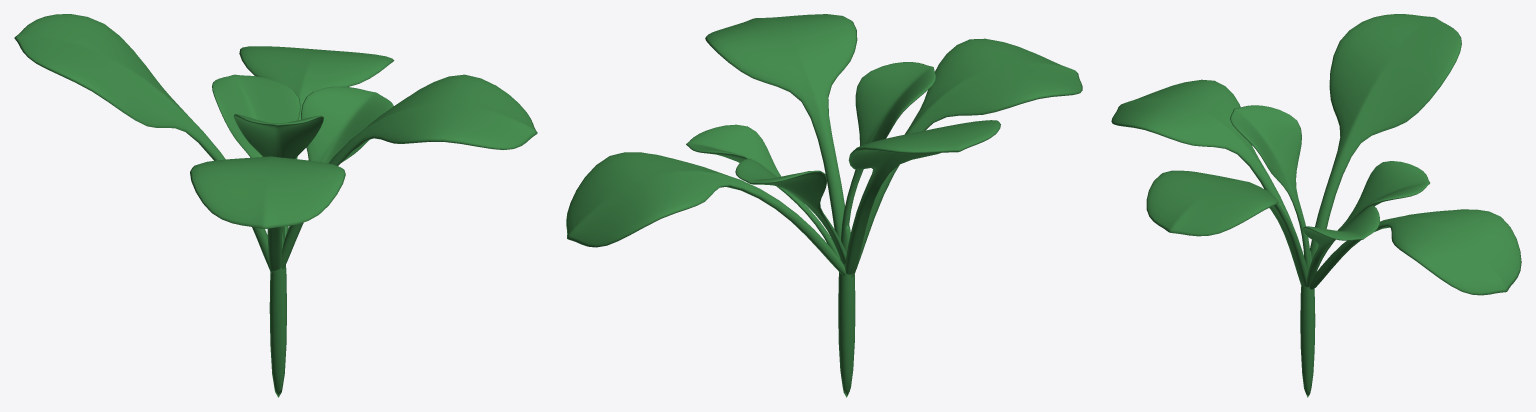
The model's file is Circularplant.fbx.
3 views of the same model, side by side, from view 1: azimuth 30°, elevation 25°; view 2: azimuth 150°, elevation 25°; view 3: azimuth 270°, elevation 25° (orthographic). The views are drawn at different scales.
Visible parts, largest first — view 1: circularplants1, circularplants2, circularplants, circularplants5, circularplants6, circularplants4, circularplants3, stem; view 2: circularplants5, circularplants2, circularplants, circularplants1, circularplants3, circularplants6, circularplants4, stem; view 3: circularplants1, circularplants5, circularplants2, circularplants, circularplants3, circularplants4, circularplants6, stem.
Boxes of the visible parts, left/top/right/bottom form: circularplants1: left=14, top=14, right=274, bottom=274; circularplants2: left=281, top=74, right=537, bottom=268; circularplants: left=190, top=156, right=345, bottom=273; circularplants5: left=239, top=46, right=394, bottom=237; circularplants6: left=285, top=86, right=393, bottom=238; circularplants4: left=212, top=74, right=300, bottom=157; circularplants3: left=233, top=114, right=323, bottom=240; stem: left=269, top=232, right=286, bottom=397; circularplants5: left=566, top=152, right=845, bottom=275; circularplants2: left=705, top=14, right=857, bottom=240; circularplants: left=851, top=38, right=1082, bottom=277; circularplants1: left=845, top=120, right=1000, bottom=274; circularplants3: left=841, top=62, right=935, bottom=241; circularplants6: left=686, top=124, right=840, bottom=258; circularplants4: left=735, top=158, right=846, bottom=264; stem: left=838, top=225, right=855, bottom=397; circularplants1: left=1310, top=14, right=1461, bottom=271; circularplants5: left=1309, top=209, right=1521, bottom=295; circularplants2: left=1146, top=170, right=1308, bottom=287; circularplants: left=1111, top=79, right=1303, bottom=255; circularplants3: left=1230, top=105, right=1310, bottom=271; circularplants4: left=1315, top=161, right=1429, bottom=273; circularplants6: left=1302, top=205, right=1379, bottom=287; stem: left=1300, top=250, right=1315, bottom=397.
Bounding box in the file's own units: 117 × 102 × 125.
